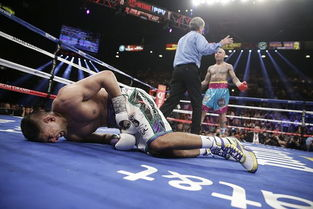10+: (1, 10, 313, 175)
down: (17, 65, 264, 176)
